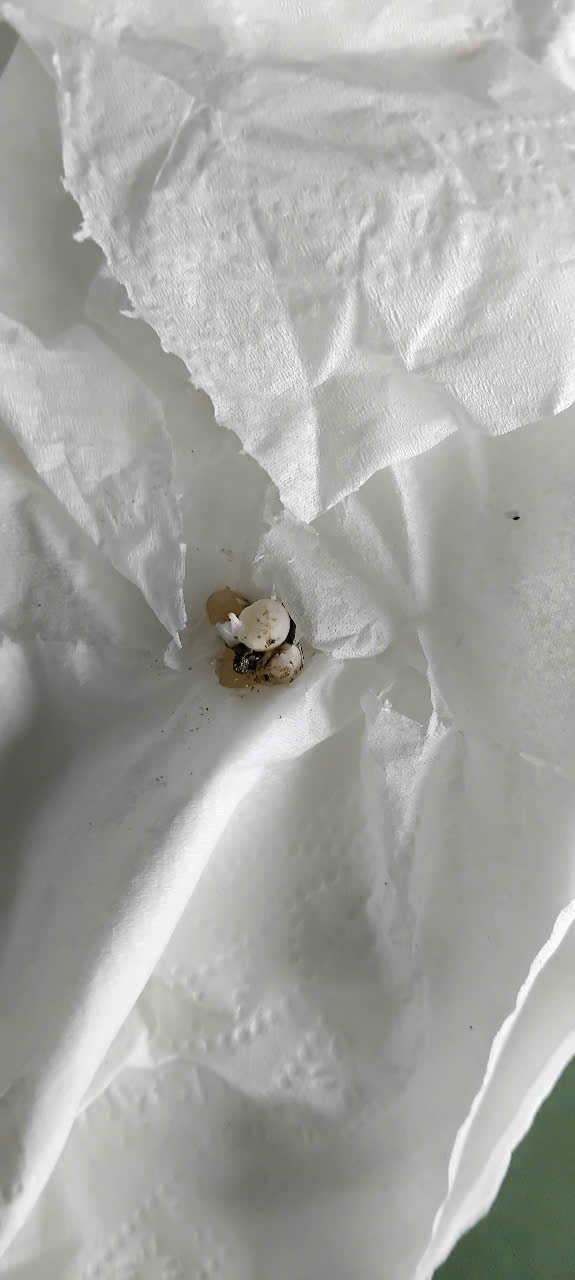trung_oc_buou_den: (209, 574, 328, 721)
